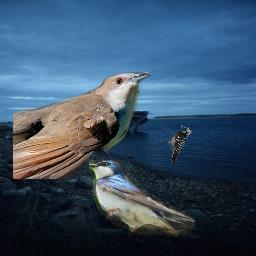Cuckoo: (13, 72, 151, 179)
Swallow: (89, 160, 195, 239)
Woodpecker: (168, 125, 192, 164)
